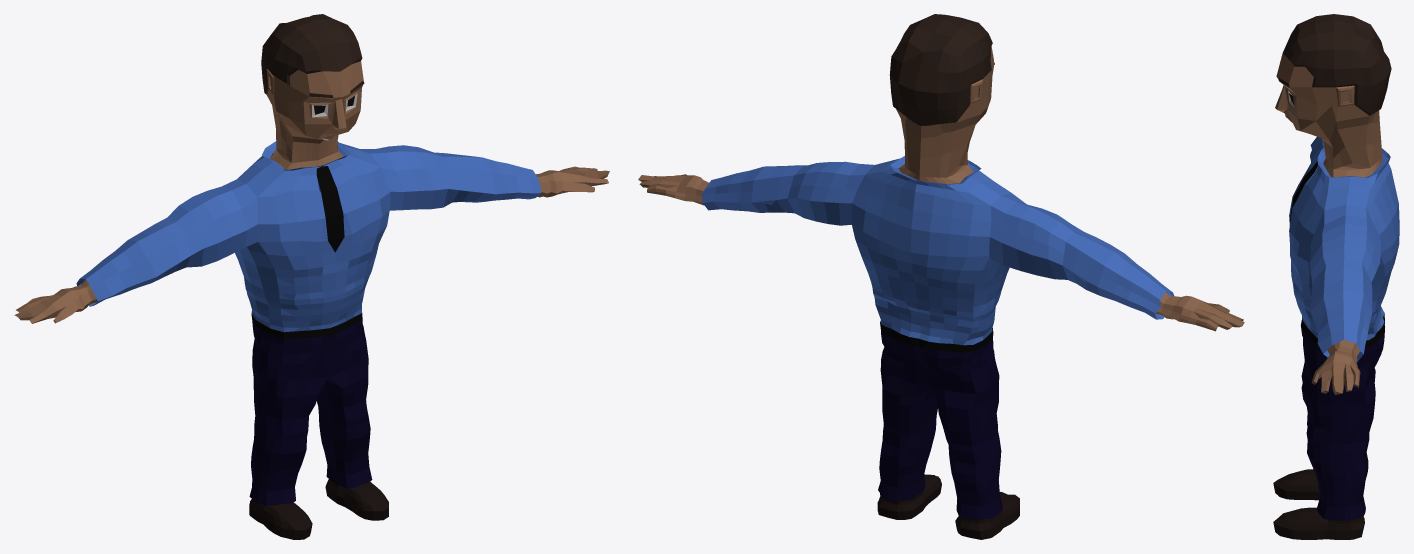
Rendered from policajac 2.fbx.
3 renders of one model, left to right at view 1: azimuth 30°, elevation 25°; view 2: azimuth 150°, elevation 25°; view 3: azimuth 270°, elevation 25°, orthographic.
Parts seen in each view (by area): view 1: ROBA.008, LIK1.009; view 2: ROBA.008, LIK1.009; view 3: ROBA.008, LIK1.009.
Part boxes in pixels (<box>): ROBA.008: <box>76,141,541,505</box>; LIK1.009: <box>14,14,609,539</box>; ROBA.008: <box>701,156,1174,520</box>; LIK1.009: <box>638,14,1244,539</box>; ROBA.008: <box>1289,137,1399,520</box>; LIK1.009: <box>1273,14,1391,539</box>.
Size of the model in its own units: 1350 by 1064 by 247.
